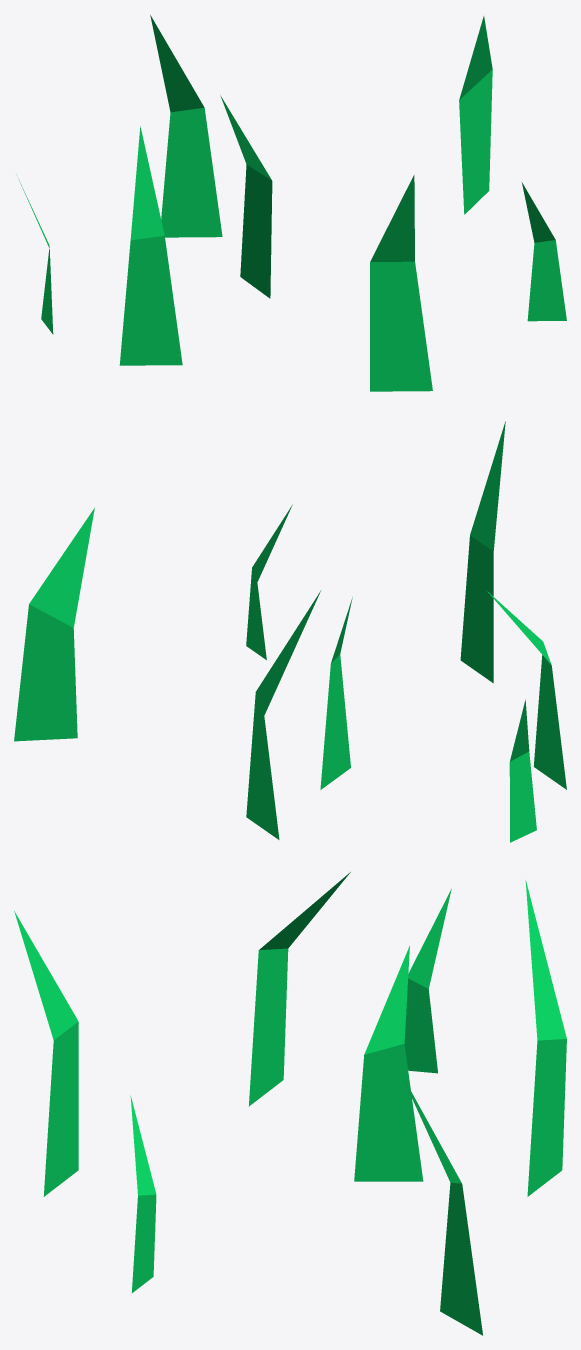
The model's file is grass1.fbx.
The picture shows the model from 3 angles, top to bottom: view 1: azimuth 30°, elevation 25°; view 2: azimuth 150°, elevation 25°; view 3: azimuth 270°, elevation 25°; orthographic projection. The views are drawn at different scales.
Visible parts, largest first — view 1: Plane.009; view 2: Plane.009; view 3: Plane.009.
Part boxes in pixels (box(x1,y1,x2,y2)): Plane.009: box(18, 15, 566, 391); Plane.009: box(14, 421, 566, 842); Plane.009: box(14, 872, 566, 1335).
Bounding box in the file's own units: 24.87 × 11.73 × 21.2.
